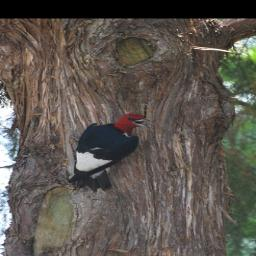Woodpecker: (61, 110, 157, 192)
